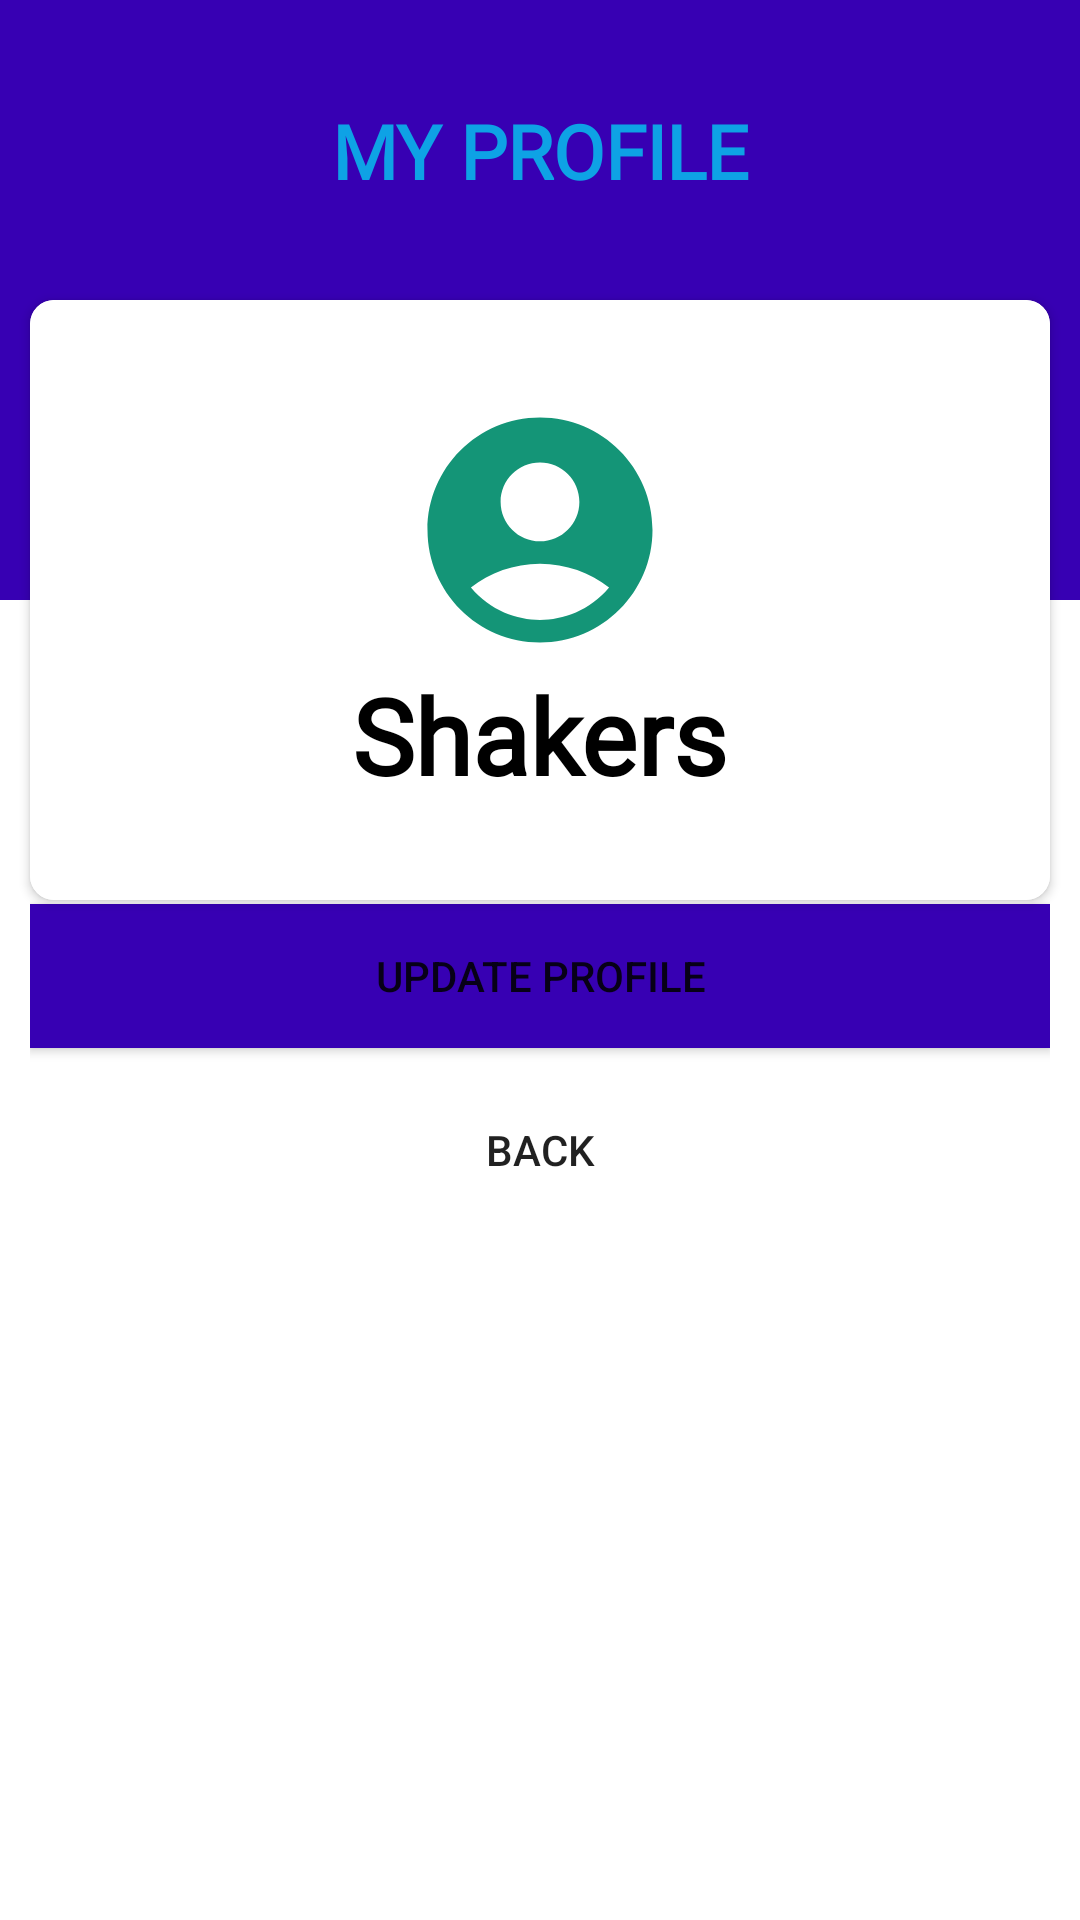

Where to tap for icons on this 1080px×1920px app screen, as (x,y):
userprofile: (540,530)
